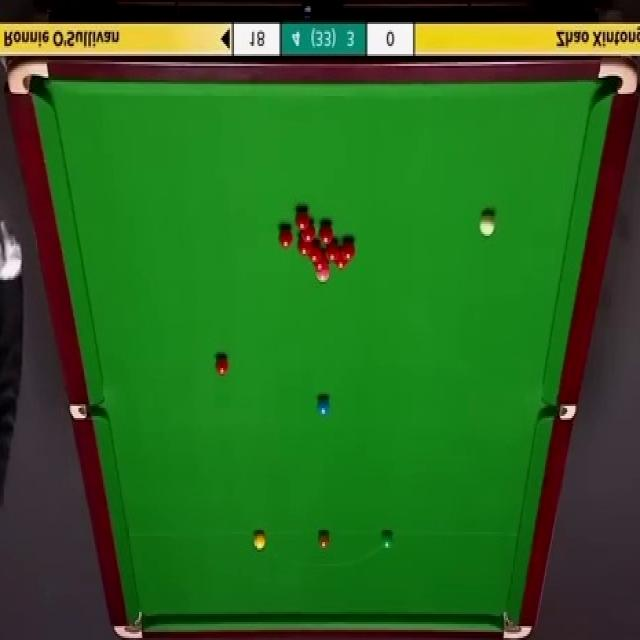pocket: (596, 60, 638, 100), (7, 61, 50, 94), (109, 606, 145, 640), (498, 608, 533, 640), (537, 405, 578, 420), (67, 405, 105, 420)
